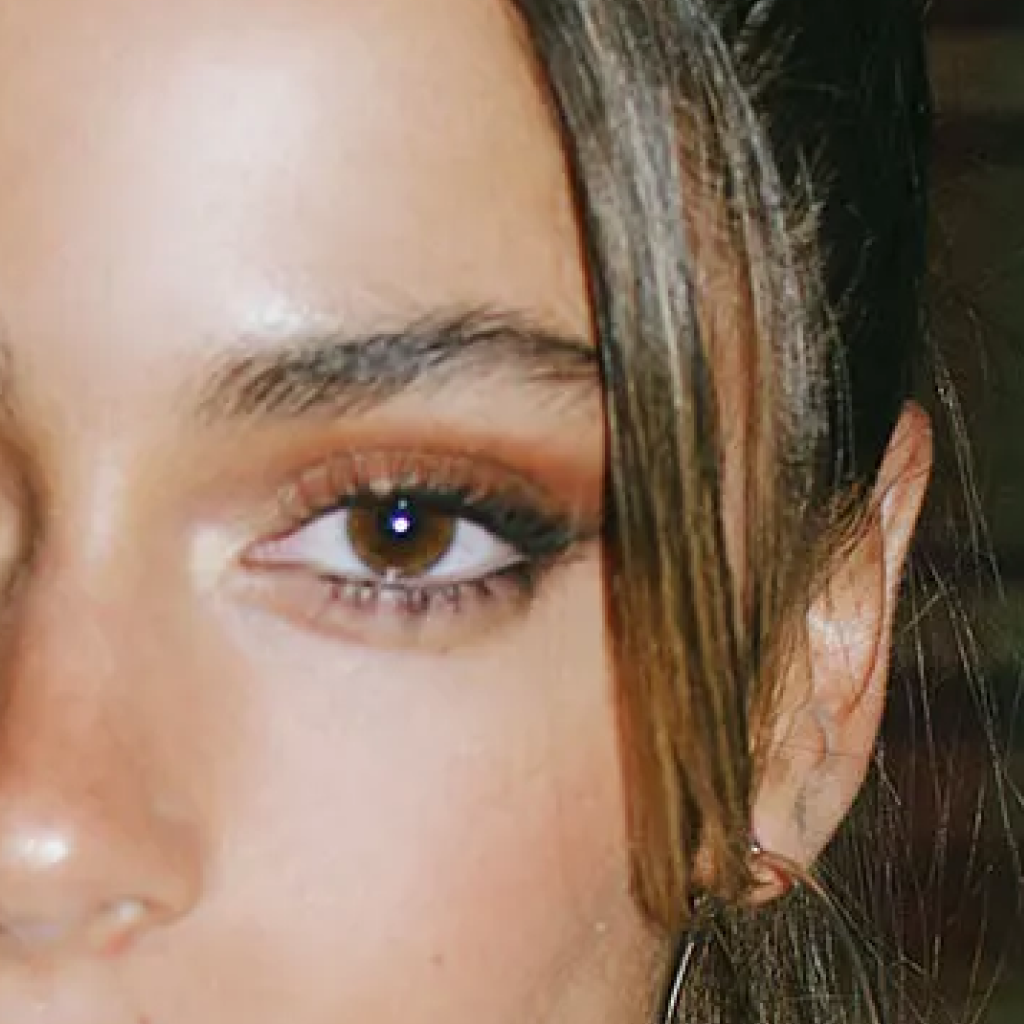iris: (349, 496, 454, 577)
pupil: (384, 507, 419, 542)
sclera: (283, 506, 521, 586)
